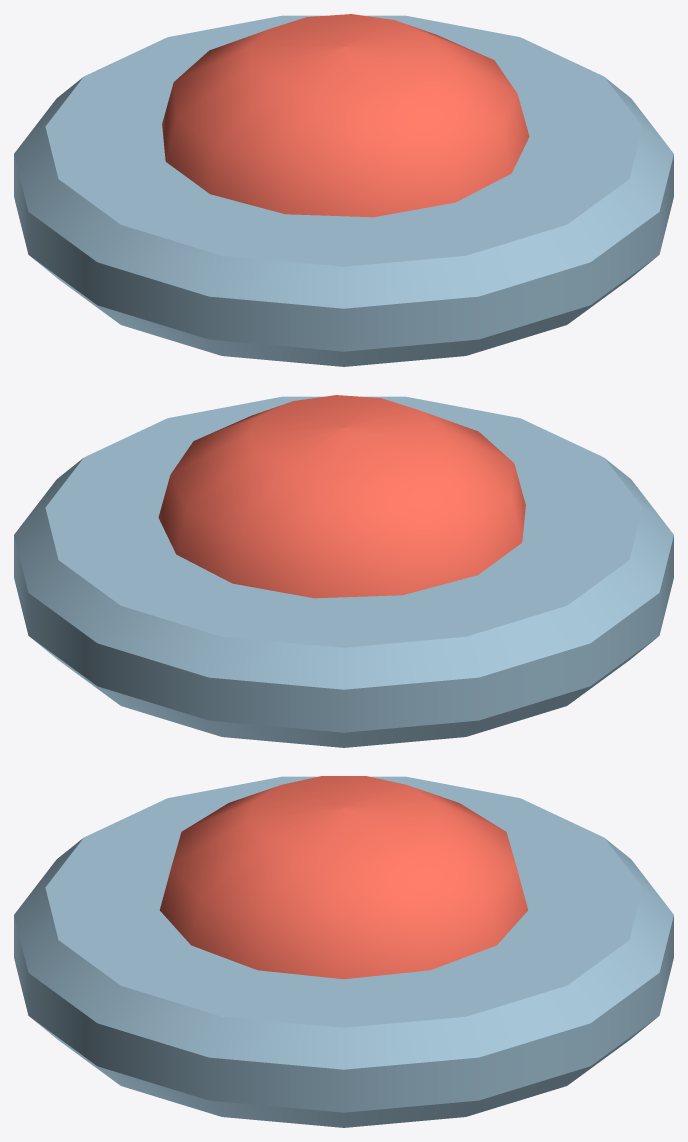
File: R4D_ExplosiveTrap.glb
3 renders of one model, top to bottom at view 1: azimuth 30°, elevation 25°; view 2: azimuth 150°, elevation 25°; view 3: azimuth 270°, elevation 25°, orthographic.
Parts seen in each view (by area): view 1: R4D_ExplosiveTrap_Body, R4D_ExplosiveTrap_Lamp; view 2: R4D_ExplosiveTrap_Body, R4D_ExplosiveTrap_Lamp; view 3: R4D_ExplosiveTrap_Body, R4D_ExplosiveTrap_Lamp.
Part boxes in pixels (x1,y1,x2,y2): R4D_ExplosiveTrap_Body: (14, 15, 673, 366); R4D_ExplosiveTrap_Lamp: (162, 14, 529, 217); R4D_ExplosiveTrap_Body: (14, 396, 673, 747); R4D_ExplosiveTrap_Lamp: (158, 395, 525, 598); R4D_ExplosiveTrap_Body: (14, 776, 673, 1127); R4D_ExplosiveTrap_Lamp: (160, 776, 527, 979).
Size of the model in its own units: 0.4154 by 0.135 by 0.4177.
